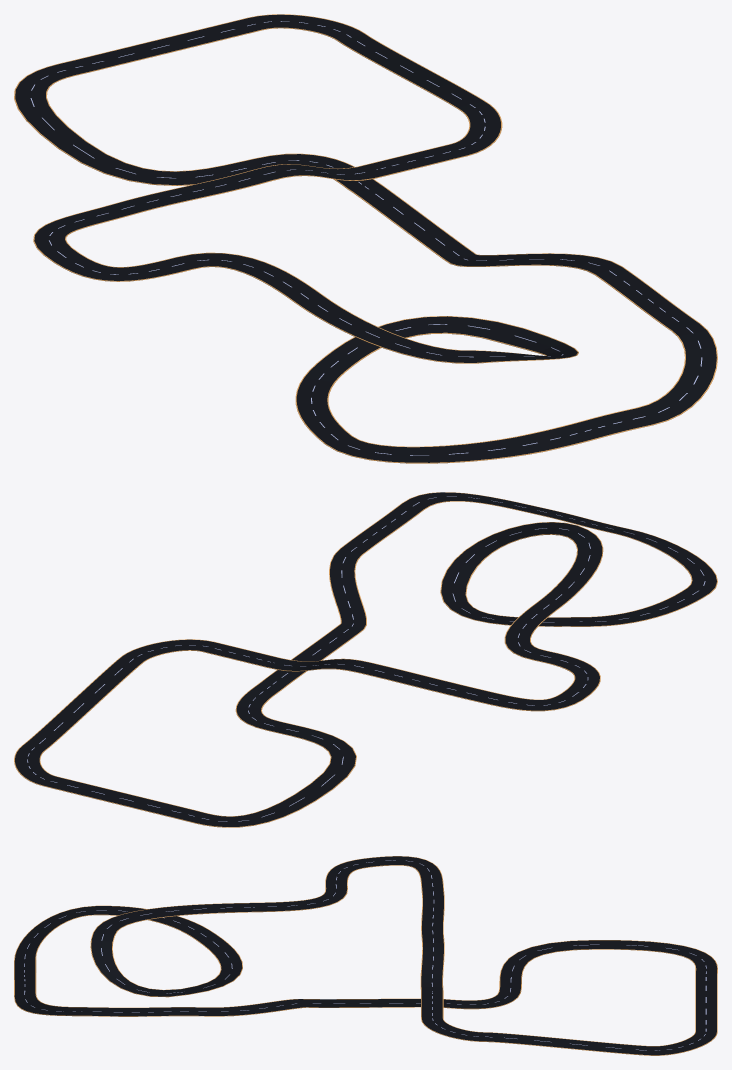
The model's file is Track.fbx.
The picture shows the model from 3 angles, top to bottom: view 1: azimuth 30°, elevation 25°; view 2: azimuth 150°, elevation 25°; view 3: azimuth 270°, elevation 25°; orthographic projection. The views are drawn at different scales.
Parts seen in each view (by area): view 1: BezierCurve.001; view 2: BezierCurve.001; view 3: BezierCurve.001.
Boxes of the visible parts, x1,y1,x2,y2 form: BezierCurve.001: (14,14,717,463); BezierCurve.001: (14,492,717,827); BezierCurve.001: (14,856,717,1055).
Bounding box in the file's own units: 71628 × 6496 × 125004.
